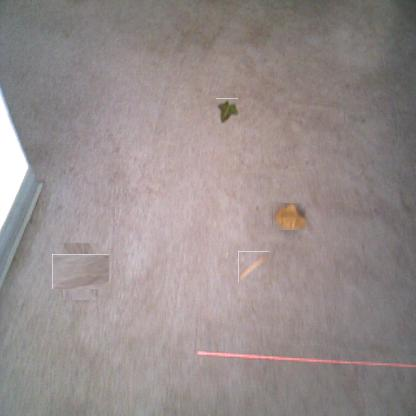dirty: (238, 251, 269, 282), (272, 202, 306, 230), (216, 98, 238, 123)
mark: (58, 248, 104, 294), (344, 112, 366, 124)
